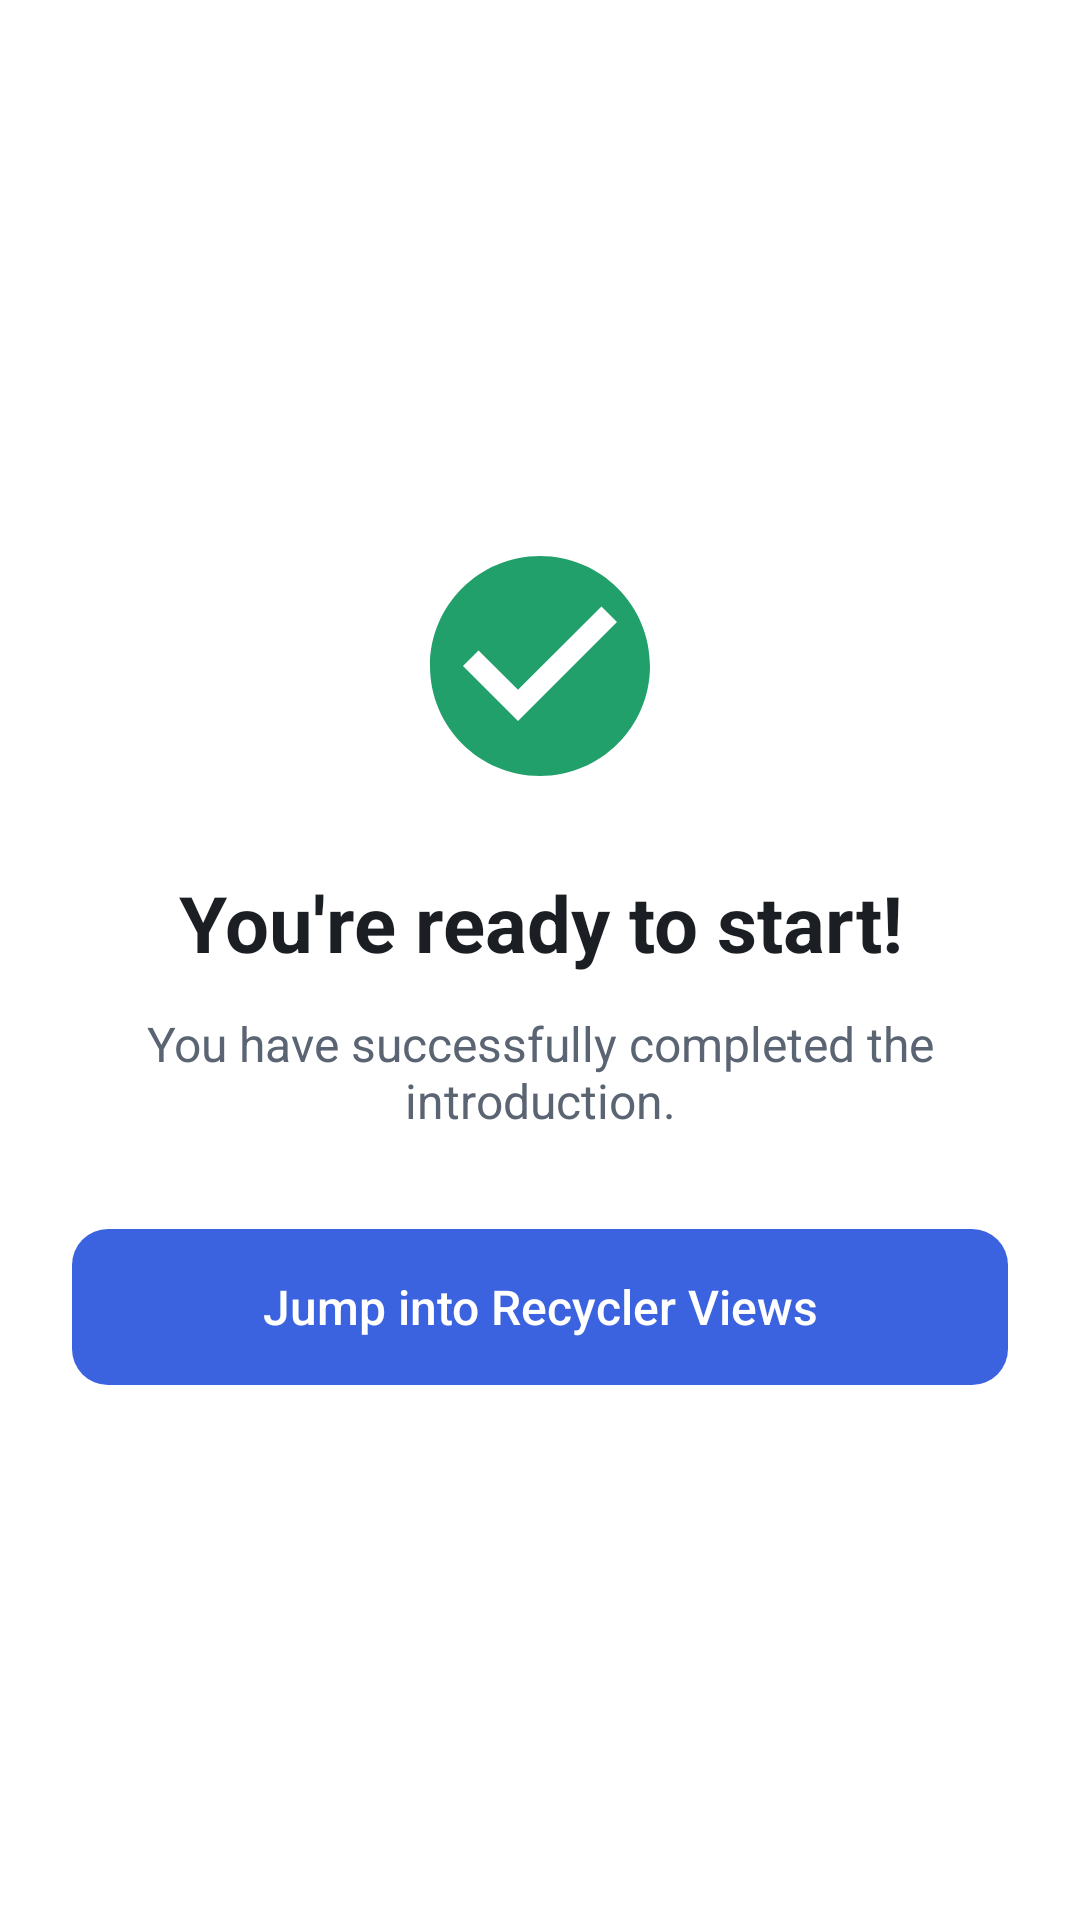

Named icons in this screenshot (1080px x 1920px) and their centers, (x,y):
workshop success: (540,666)
